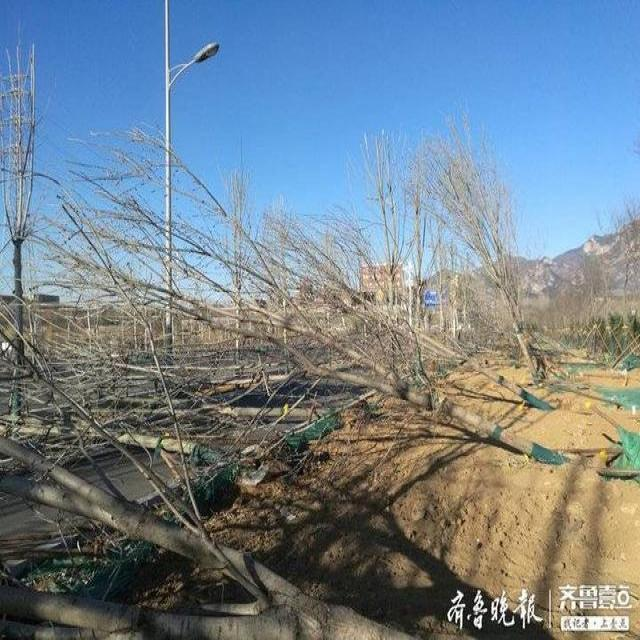fallen_object: (207, 527, 446, 640), (372, 368, 579, 475), (400, 328, 553, 414), (0, 414, 228, 462)
